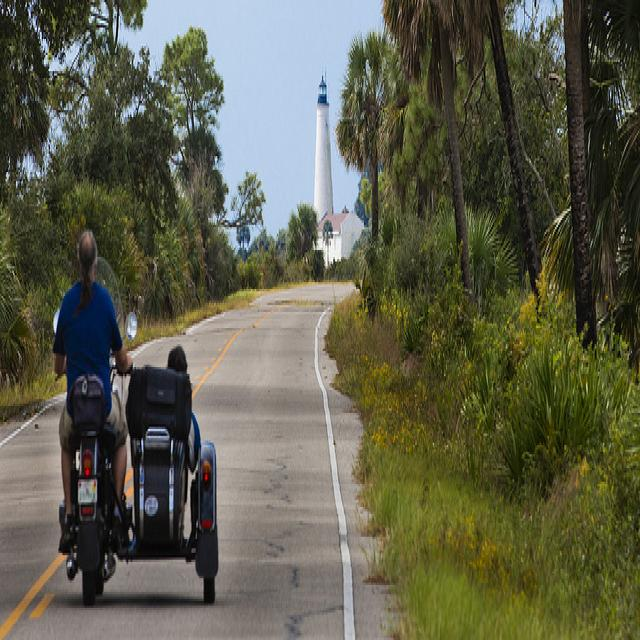motor: (62, 393, 115, 606)
